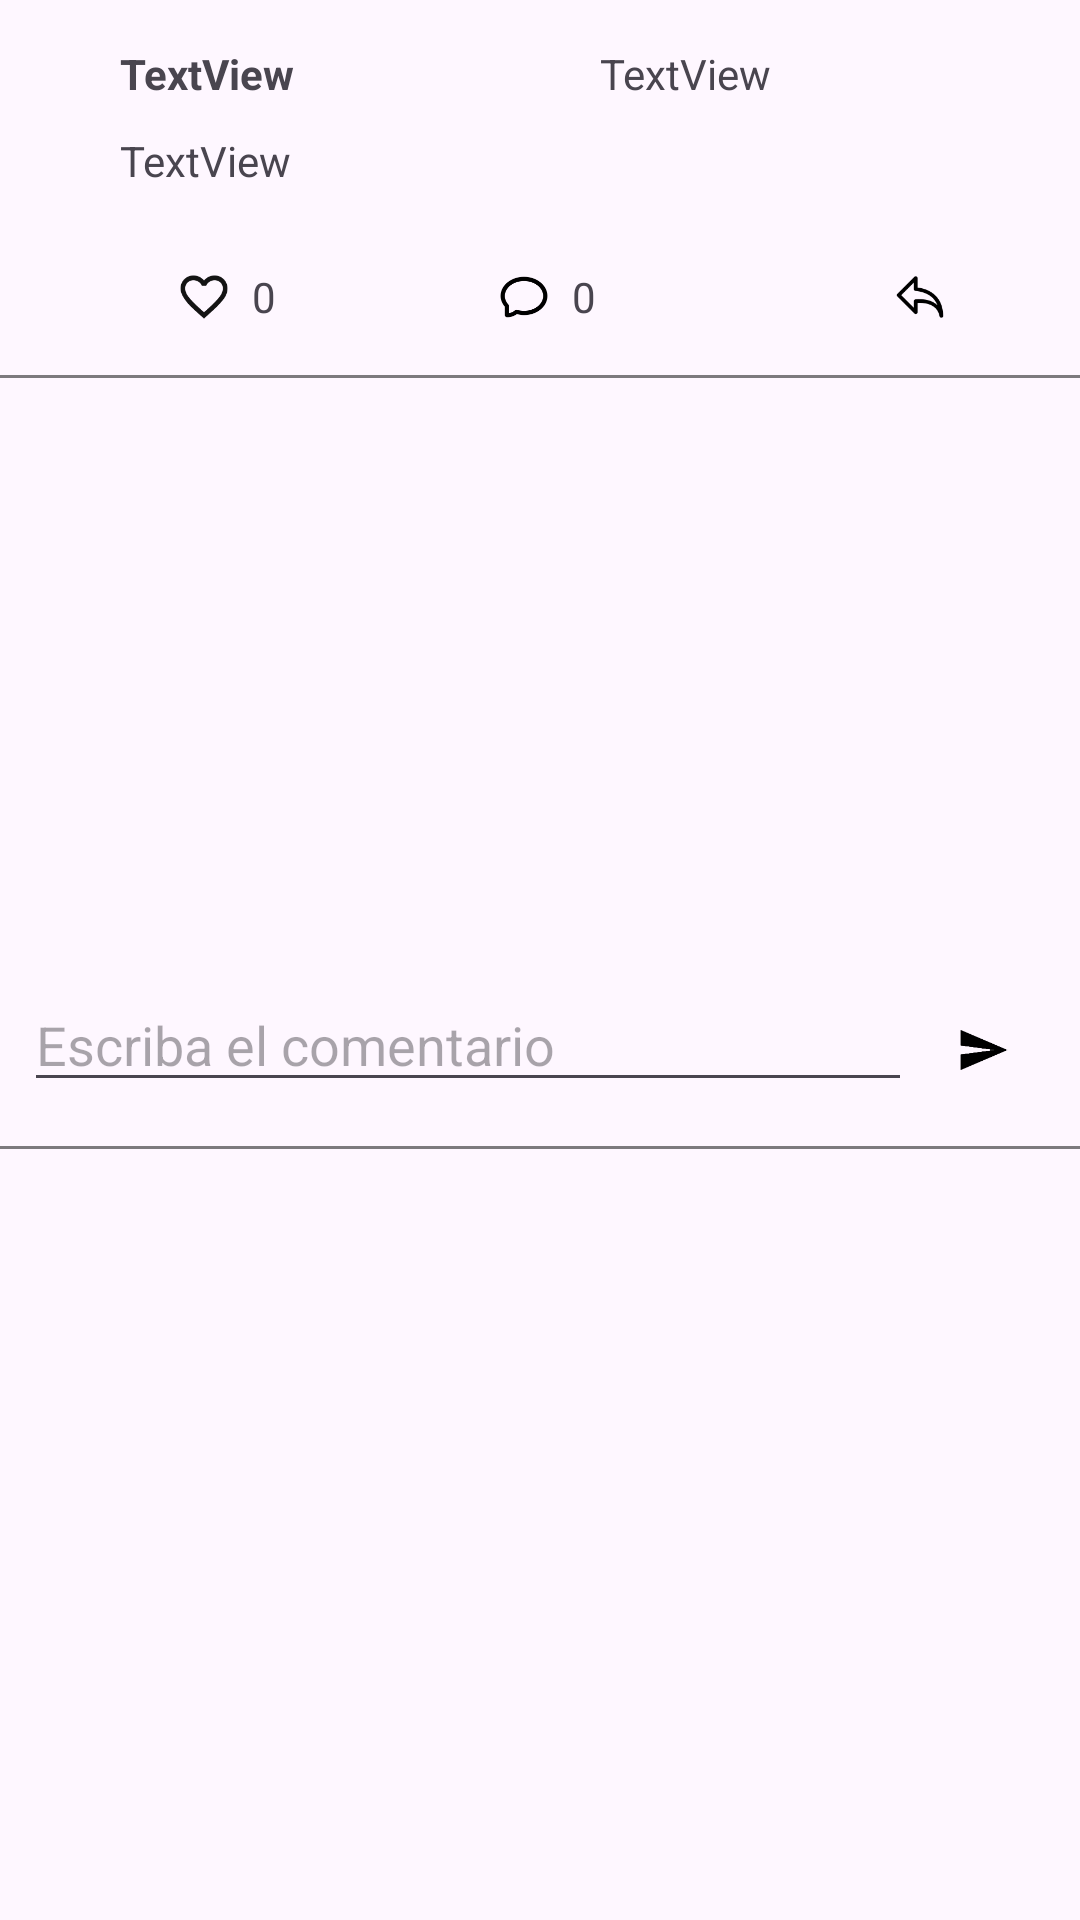

Point at icon controls on the screen. Image size 1080x1920, points as [x,y].
comment: [524,297]
empty favorite: [204,297]
replay: [920,297]
send: [983,1050]
